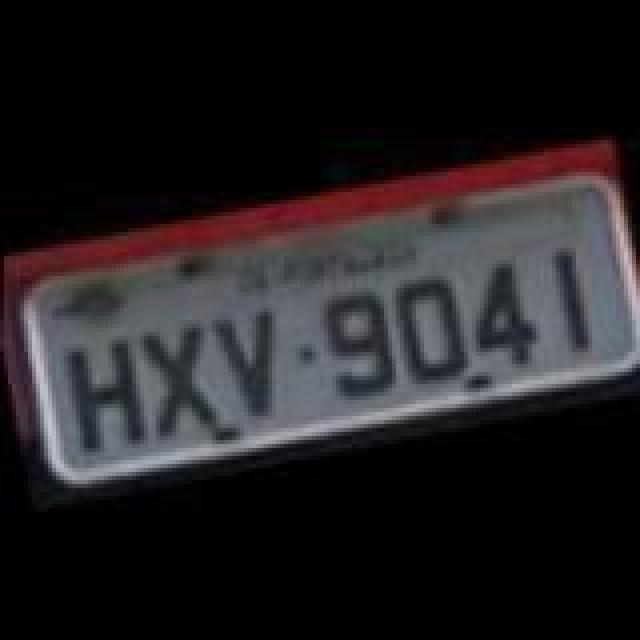1: (536, 240, 600, 352)
4: (448, 246, 544, 374)
9: (308, 276, 412, 408)
H: (56, 326, 156, 458)
O: (382, 262, 474, 386)
V: (200, 292, 300, 424)
X: (132, 308, 232, 436)
